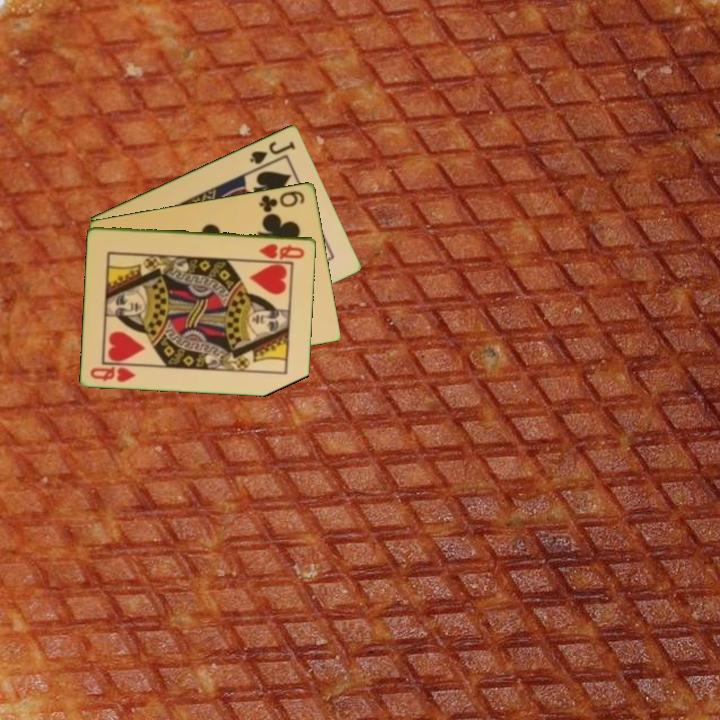6c: (256, 187, 308, 215)
Js: (246, 137, 298, 167)
Qh: (87, 362, 138, 385), (255, 240, 308, 261)
